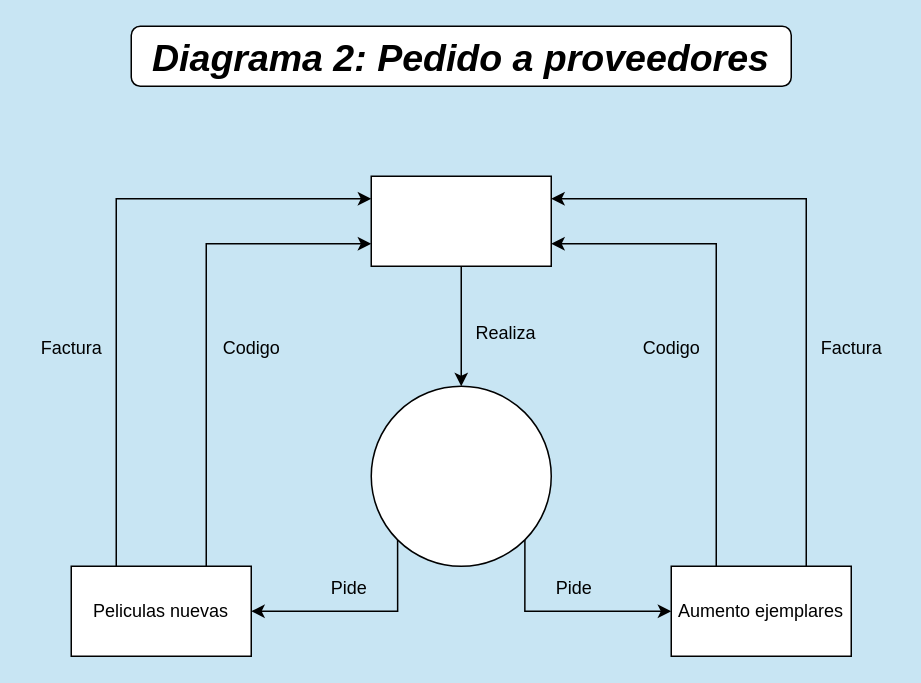
Some shapes in this 921 by 683 pixel diagram are drawn without their labels. Each missing label, with the box of its shape:
Pedidos peliculas: (370, 385, 551, 566)
Sistema de gestión del Videoclub: (370, 175, 551, 266)
